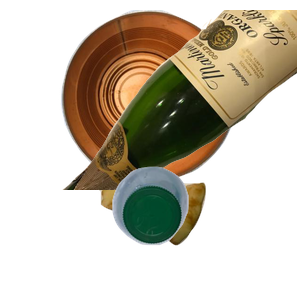glass: (60, 10, 300, 190)
metal: (58, 10, 289, 186)
plastic: (110, 164, 300, 300)
trash: (96, 145, 295, 300)
